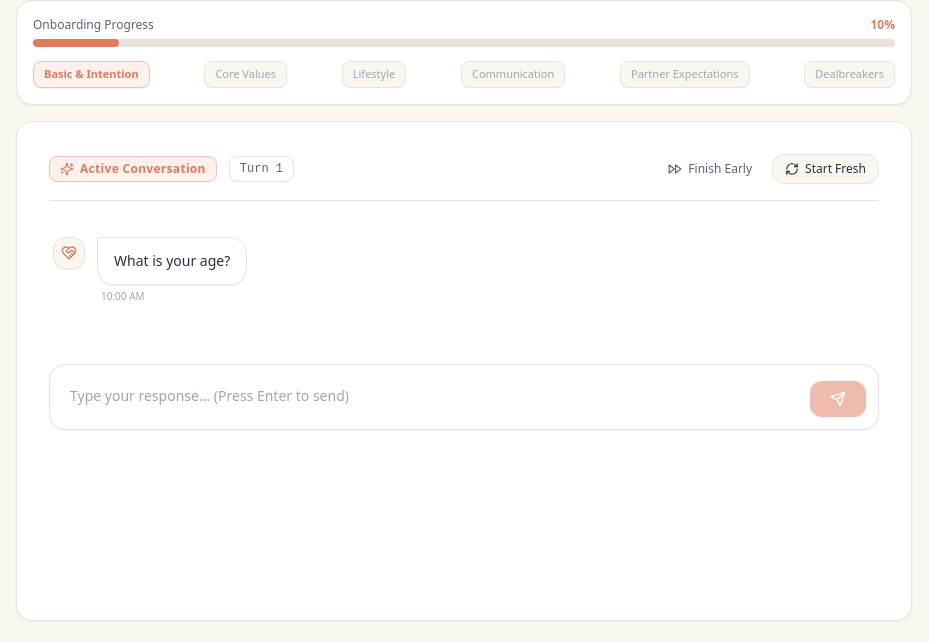
Test: InterviewPage Component › allows retrying without accidental duplicate submission
expect the text "What is your age?" is shown: met, box [114,250,230,272]
In the text box with placeholder "Type your response... (Press Enter to send)": (432, 397) [62,377,802,417], type "I am 30"
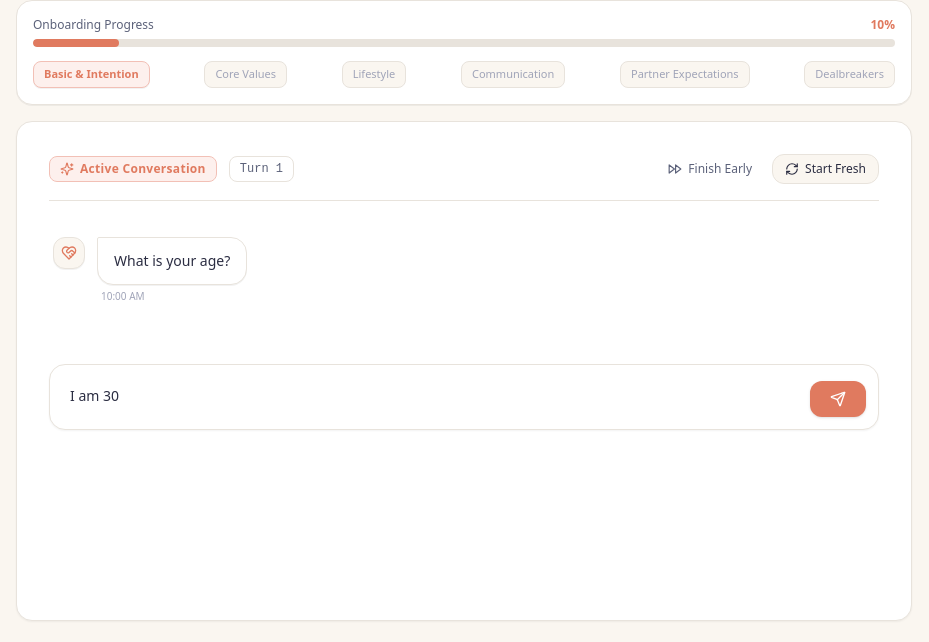
Click the 3rd button: (838, 399) [810,381,866,417]
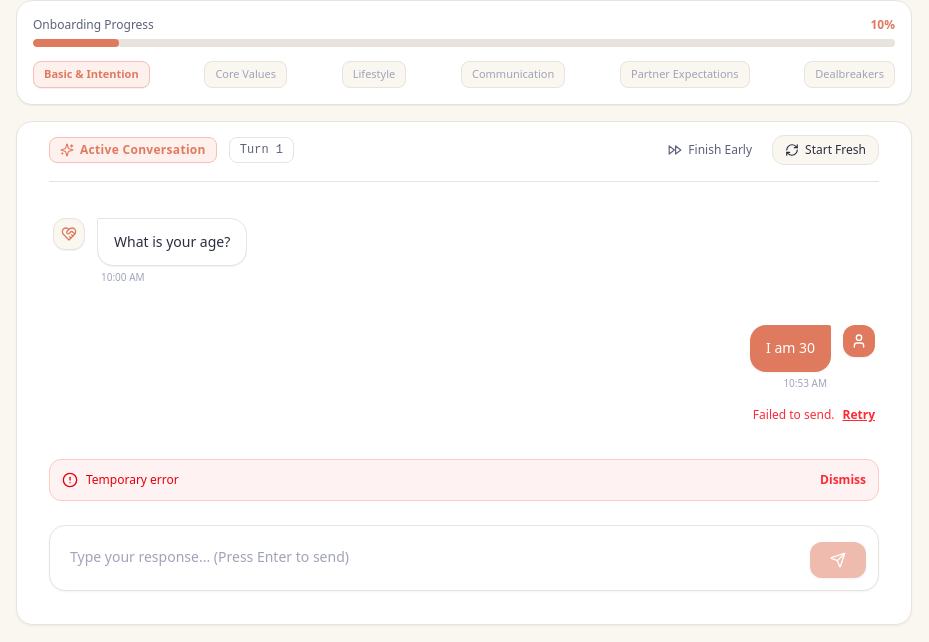
expect the text "Failed to send." is shown: met, box [753,407,834,423]
Click the button "Retry": (859, 415) [842,407,875,423]
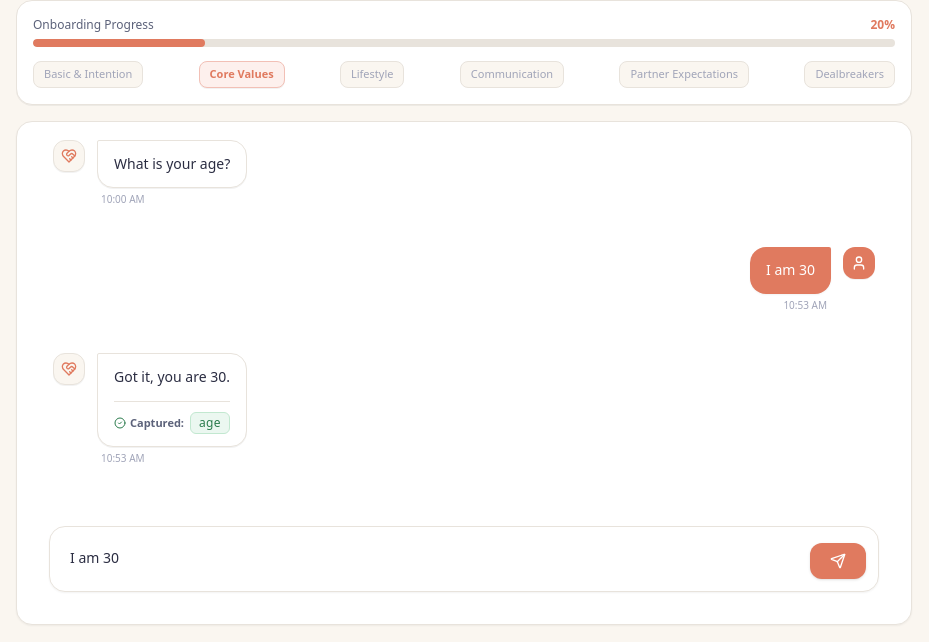
expect the text "Got it, you are 30." is shown: met, box [114,366,230,389]
